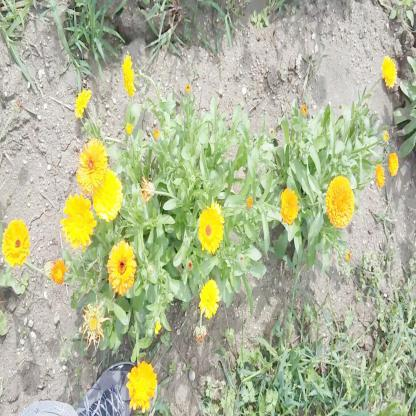marigold: (61, 191, 93, 249), (90, 170, 120, 220), (106, 243, 134, 293), (126, 362, 156, 408), (75, 138, 105, 184), (326, 175, 354, 224), (3, 221, 30, 265), (198, 206, 222, 252), (199, 280, 219, 317), (121, 54, 137, 100), (281, 187, 300, 222), (74, 87, 92, 119), (381, 56, 397, 88), (387, 148, 399, 178), (374, 162, 385, 190)
